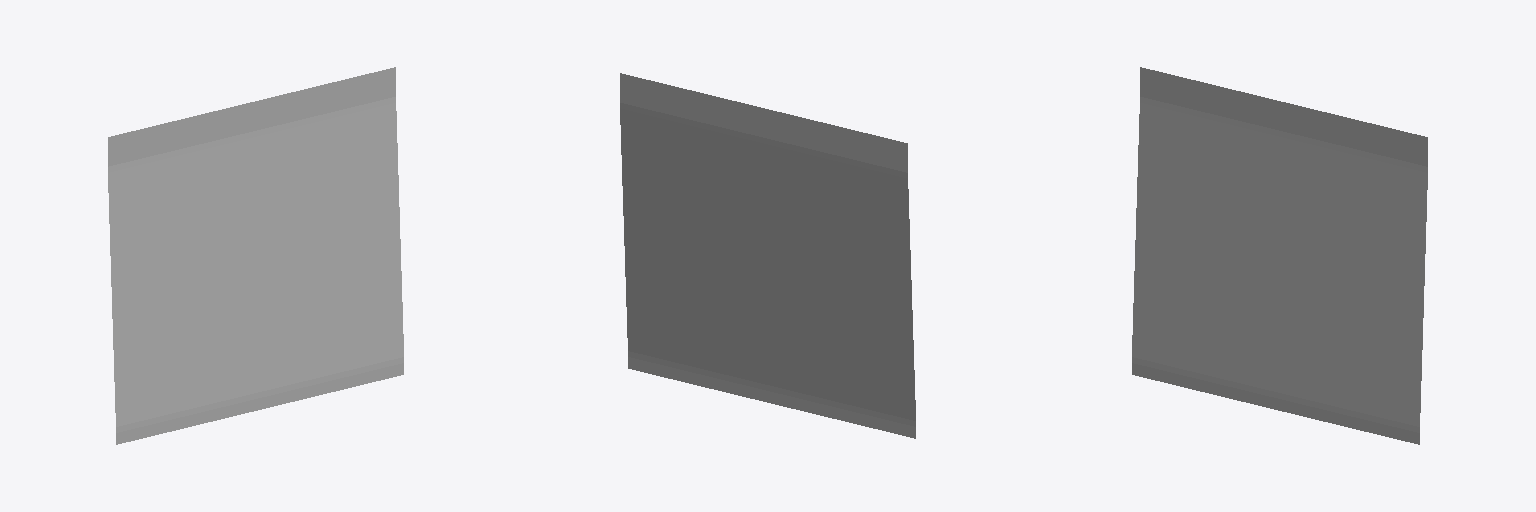
File: Road_a7c456ab-63f4-417e-8ab5-aaed34db5efe_1.obj
The picture shows the model from 3 angles: view 1: azimuth 30°, elevation 25°; view 2: azimuth 150°, elevation 25°; view 3: azimuth 330°, elevation 25°; orthographic projection.
Parts seen in each view (by area): view 1: g1; view 2: g1; view 3: g1.
Part boxes in pixels (left/top/right/bottom): g1: left=108, top=67, right=403, bottom=444; g1: left=620, top=73, right=915, bottom=438; g1: left=1132, top=67, right=1427, bottom=444.
Bounding box in the file's own units: 20 × 20 × 1.